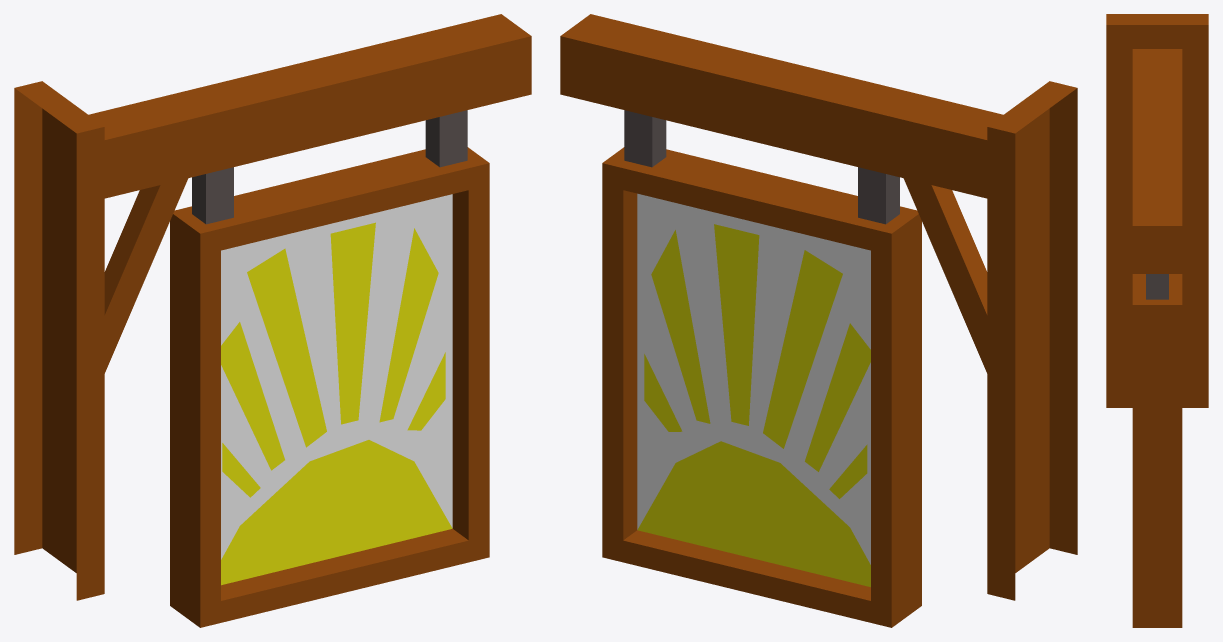
File: model_loc_1059_q.obj
The picture shows the model from 3 angles, left to right: view 1: azimuth 30°, elevation 25°; view 2: azimuth 150°, elevation 25°; view 3: azimuth 270°, elevation 25°; orthographic projection. The views are drawn at different scales.
Visible parts, largest first — view 1: 1914; view 2: 1914; view 3: 1914.
Part boxes in pixels (x1=…): 1914: x1=14, y1=14, x2=531, y2=627; 1914: x1=560, y1=14, x2=1077, y2=627; 1914: x1=1106, y1=14, x2=1208, y2=627.
Bounding box in the file's own units: 135 × 148 × 31.
